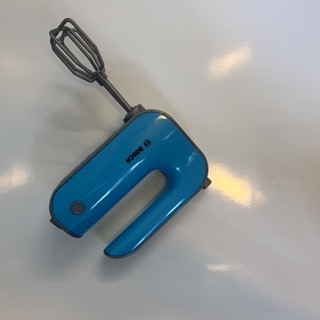mixer: (48, 16, 211, 258)
